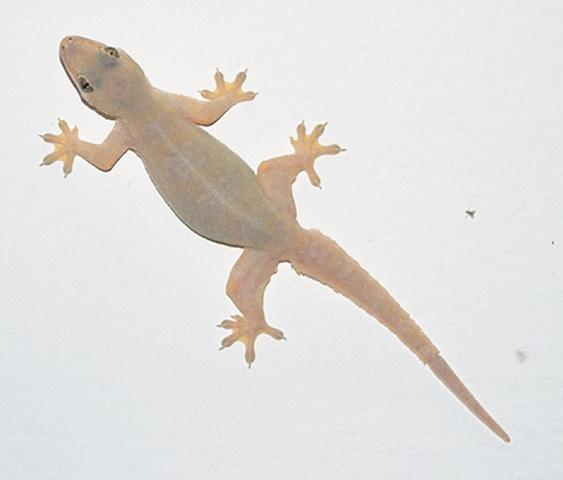lizard: (38, 28, 510, 443)
